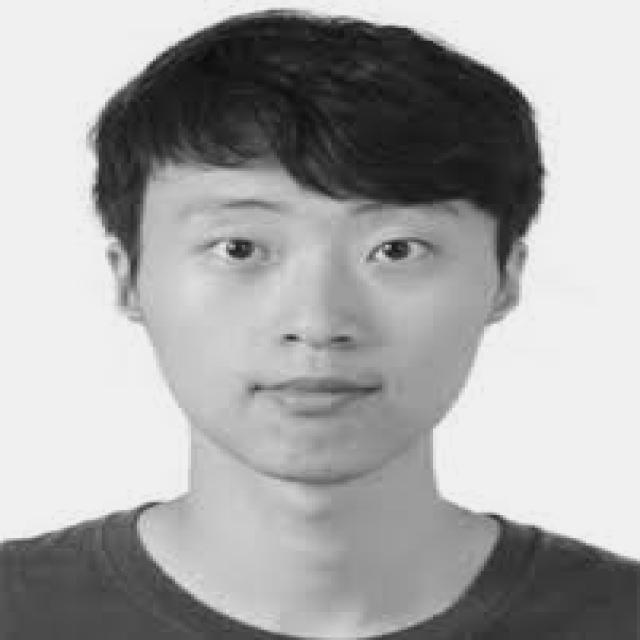normal_face: (103, 18, 510, 487)
